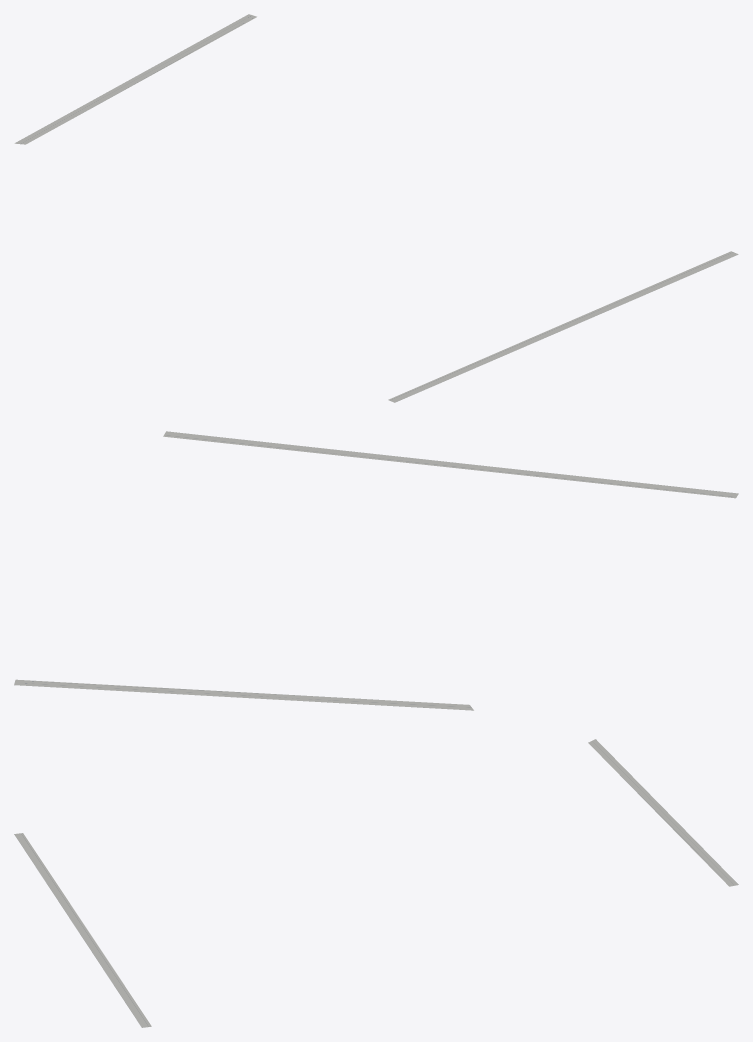
The model's file is kd_stage_1366d7_1_3_bounded.glb.
3 renders of one model, top to bottom at view 1: azimuth 30°, elevation 25°; view 2: azimuth 150°, elevation 25°; view 3: azimuth 270°, elevation 25°, orthographic. The views are drawn at different scales.
Parts seen in each view (by area): view 1: kd_stage_1366d7_1_3_bounded; view 2: kd_stage_1366d7_1_3_bounded; view 3: kd_stage_1366d7_1_3_bounded.
Boxes of the visible parts, x1,y1,x2,y2 form: kd_stage_1366d7_1_3_bounded: [14, 14, 738, 402]; kd_stage_1366d7_1_3_bounded: [14, 431, 738, 710]; kd_stage_1366d7_1_3_bounded: [14, 739, 738, 1027].
Size of the model in its own units: 35.41 by 4.07 by 46.81.
1 material, 1 textured.
